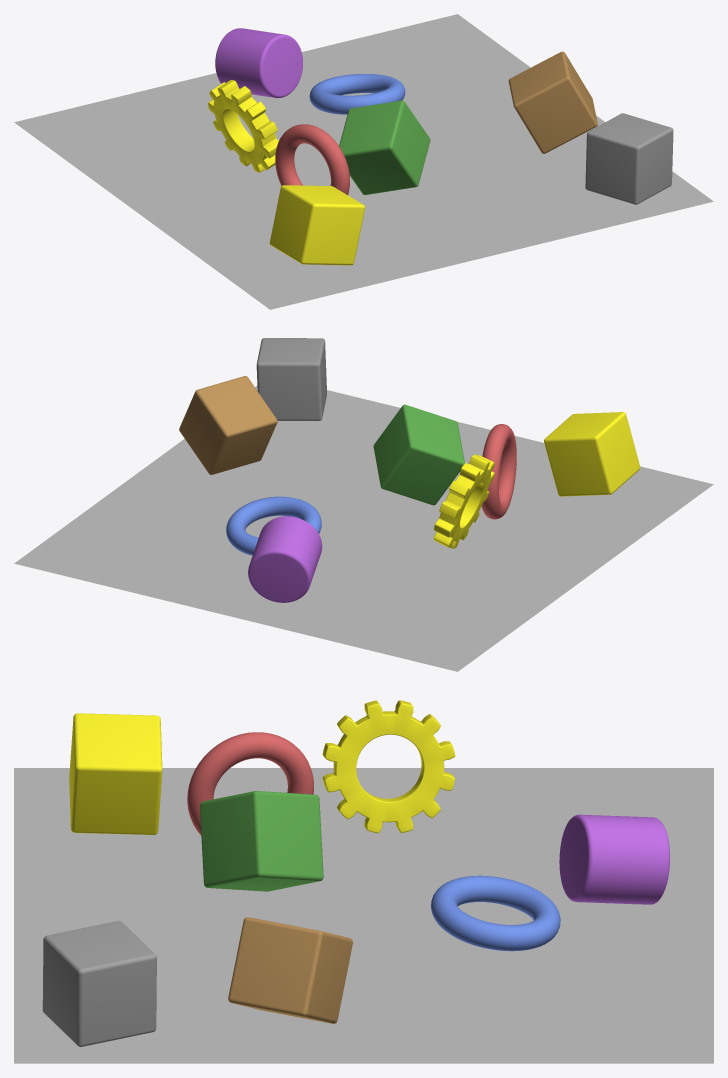
3 views of the same model, one above another, from view 1: azimuth 30°, elevation 25°; view 2: azimuth 150°, elevation 25°; view 3: azimuth 270°, elevation 25° (orthographic). The views are drawn at different scales.
Parts seen in each view (by area): view 1: Cube, FileBasedObject.002, FileBasedObject.007, FileBasedObject.004, FileBasedObject.001, FileBasedObject.006, FileBasedObject.005, FileBasedObject.003, FileBasedObject; view 2: Cube, FileBasedObject.001, FileBasedObject.002, FileBasedObject.004, FileBasedObject.007, FileBasedObject.006, FileBasedObject.005, FileBasedObject.003, FileBasedObject; view 3: Cube, FileBasedObject.007, FileBasedObject.002, FileBasedObject.004, FileBasedObject.001, FileBasedObject.006, FileBasedObject.005, FileBasedObject.003, FileBasedObject.
Part boxes in pixels (box(x1,y1,x2,y2)): Cube: box(14, 14, 713, 309); FileBasedObject.002: box(339, 100, 430, 194); FileBasedObject.007: box(585, 113, 673, 204); FileBasedObject.004: box(269, 185, 365, 265); FileBasedObject.001: box(508, 51, 597, 153); FileBasedObject.006: box(215, 28, 302, 98); FileBasedObject.005: box(208, 80, 278, 172); FileBasedObject.003: box(309, 74, 405, 114); FileBasedObject: box(275, 124, 349, 194); Cube: box(14, 386, 713, 671); FileBasedObject.001: box(179, 376, 277, 474); FileBasedObject.002: box(373, 404, 464, 505); FileBasedObject.004: box(544, 412, 640, 496); FileBasedObject.007: box(256, 338, 326, 420); FileBasedObject.006: box(248, 516, 322, 602); FileBasedObject.005: box(433, 454, 494, 548); FileBasedObject.003: box(226, 496, 321, 555); FileBasedObject: box(481, 424, 516, 519); Cube: box(14, 768, 713, 1063); FileBasedObject.007: box(42, 921, 156, 1046); FileBasedObject.002: box(200, 791, 323, 891); FileBasedObject.004: box(69, 713, 162, 834); FileBasedObject.001: box(228, 917, 352, 1023); FileBasedObject.006: box(559, 814, 669, 904); FileBasedObject.005: box(322, 700, 455, 833); FileBasedObject.003: box(431, 875, 560, 951); FileBasedObject: box(187, 732, 313, 835).
Size of the model in its own units: 8 by 1.72 by 8.
